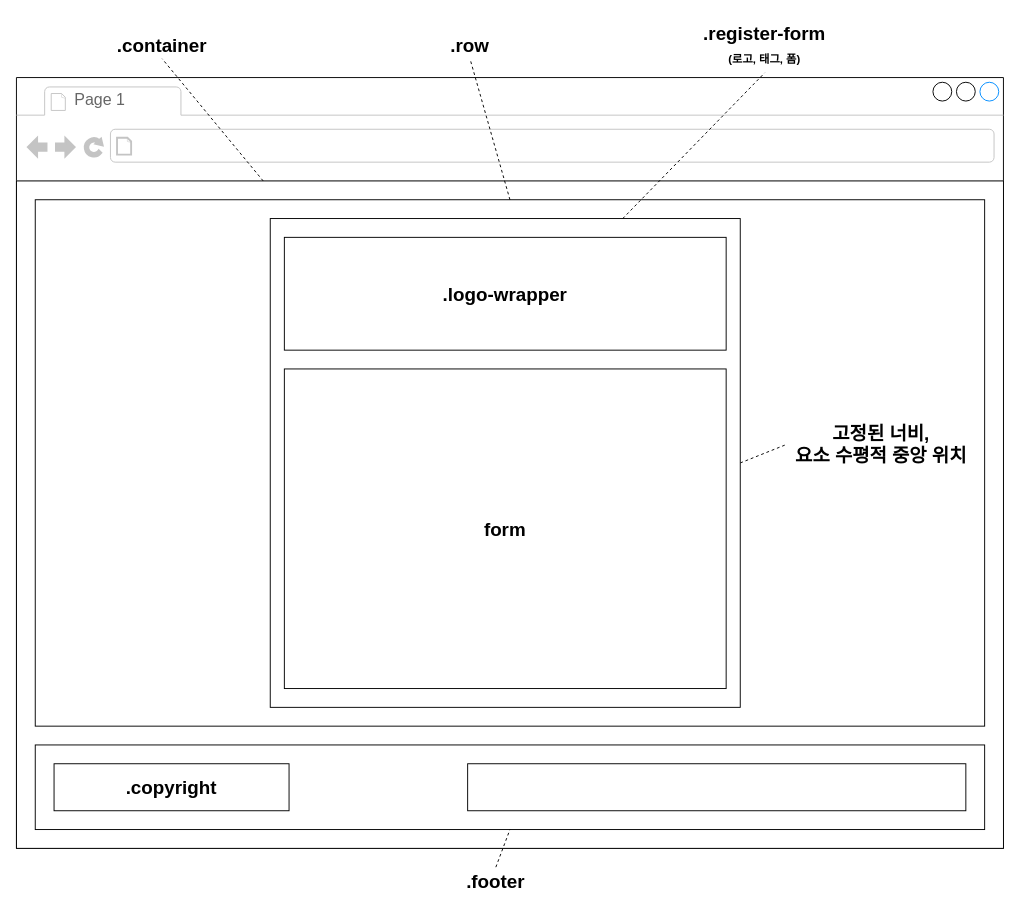
Image size: 1020x911. Some labels were removed from this diagram. The centre of each missing label's shape, as x and y in pixels:
".footer-links" belongs at point 716,787.
"https://www.default.com" belongs at point 256,145.
